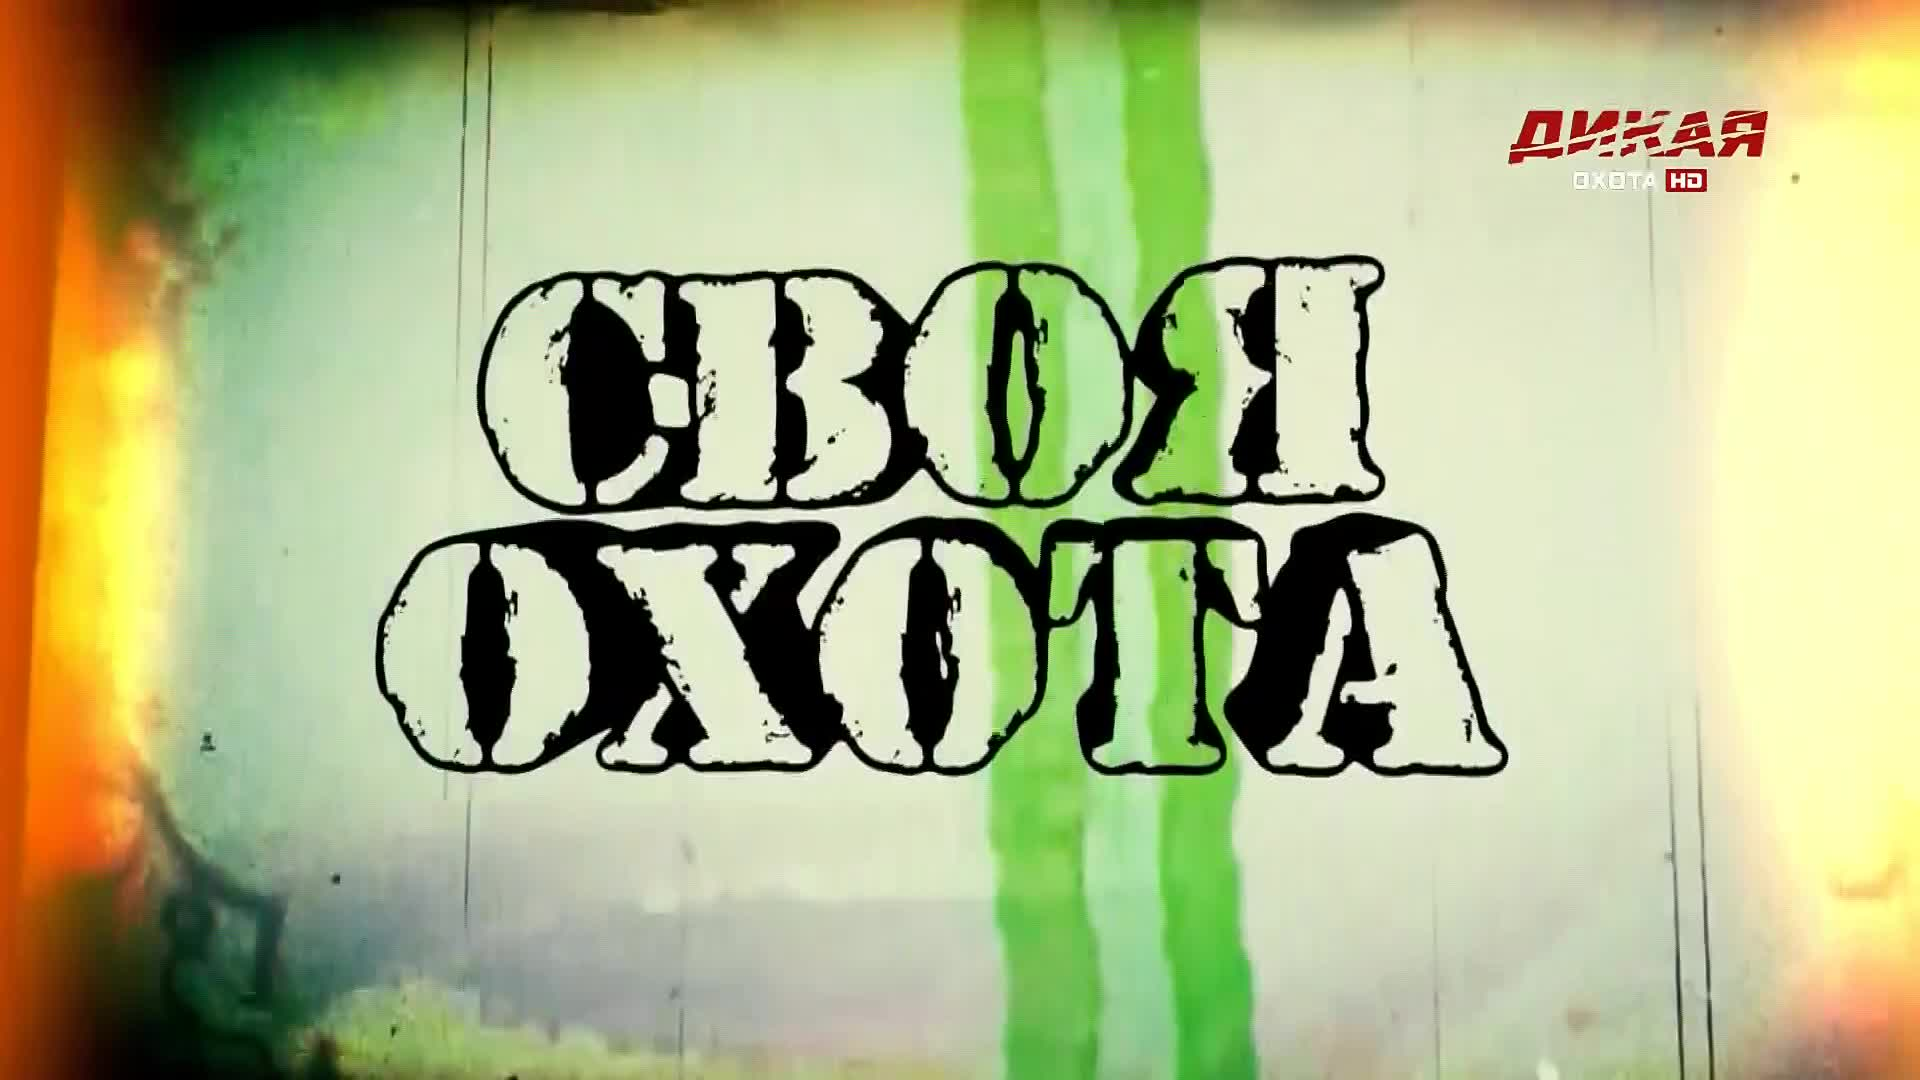Dikaya_Ohota_HD: (1501, 105, 1774, 196)
